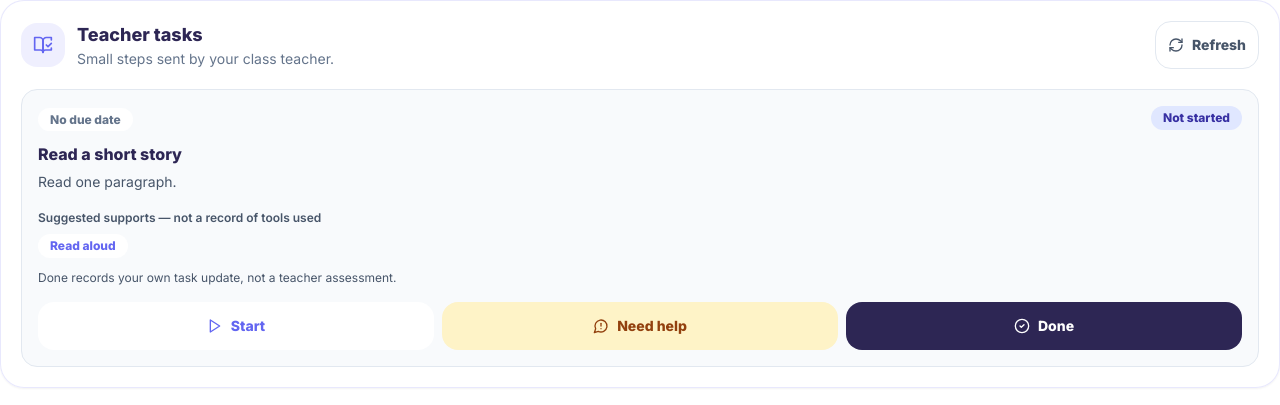
a failed refresh removes previously loaded task content rather than presenting it as current
Step 1. Click the button "Refresh" → (1207, 45), box [1155,21,1259,69]
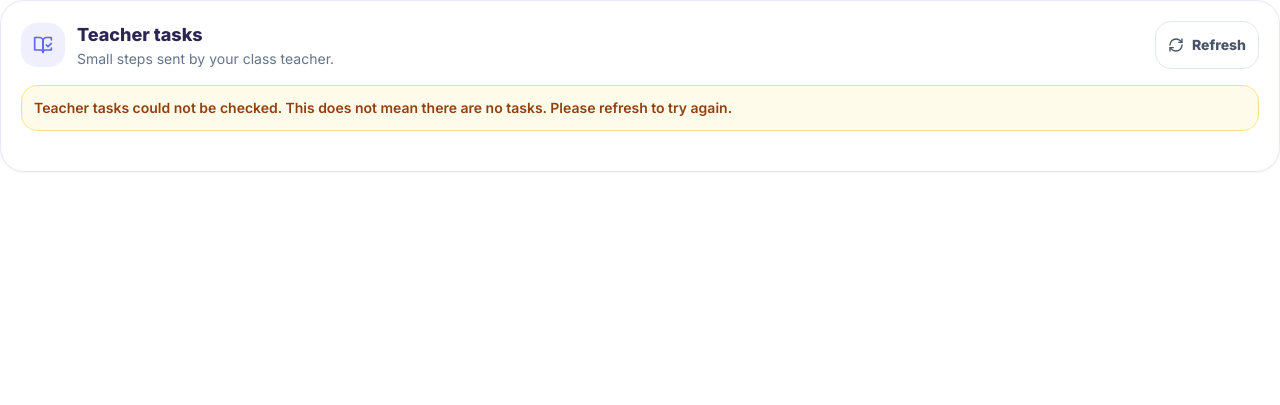
Expected: the message shows "does not mean there are no tasks", [34,99,732,116]
